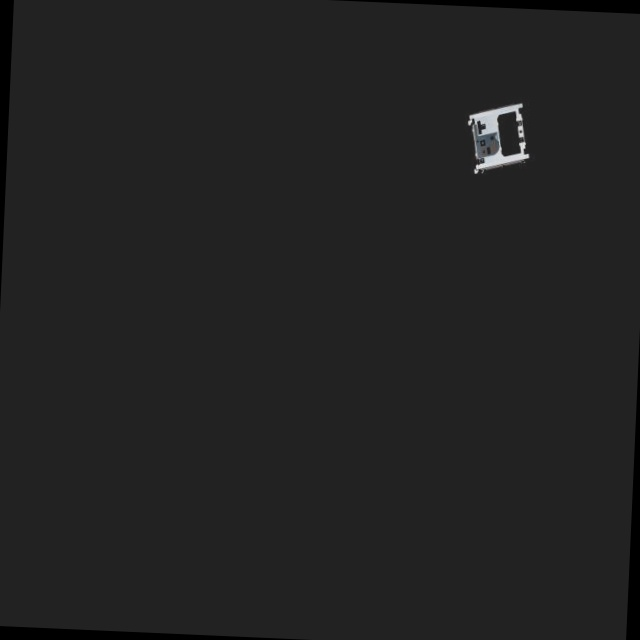medium_debris: (458, 98, 532, 181)
